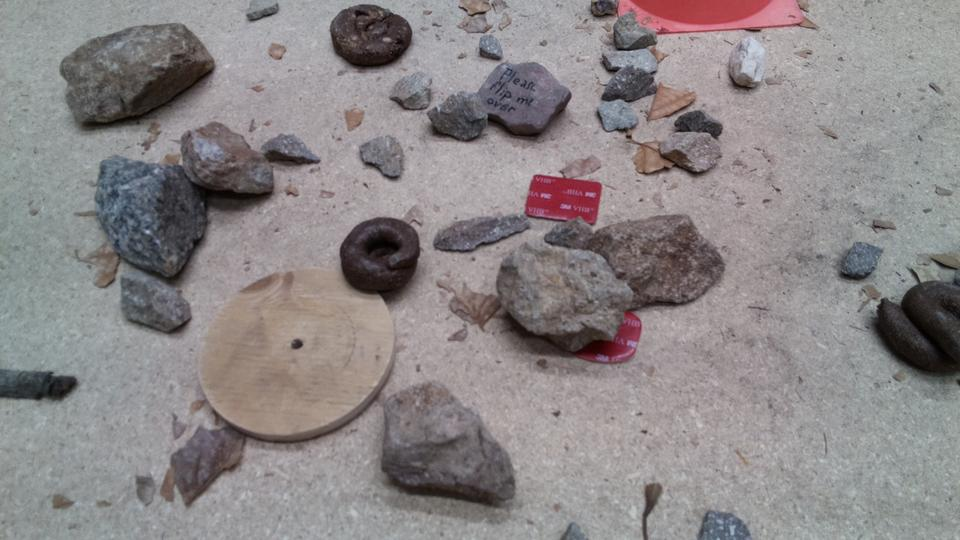poop: (872, 276, 960, 380), (337, 215, 422, 298), (328, 1, 416, 71)
